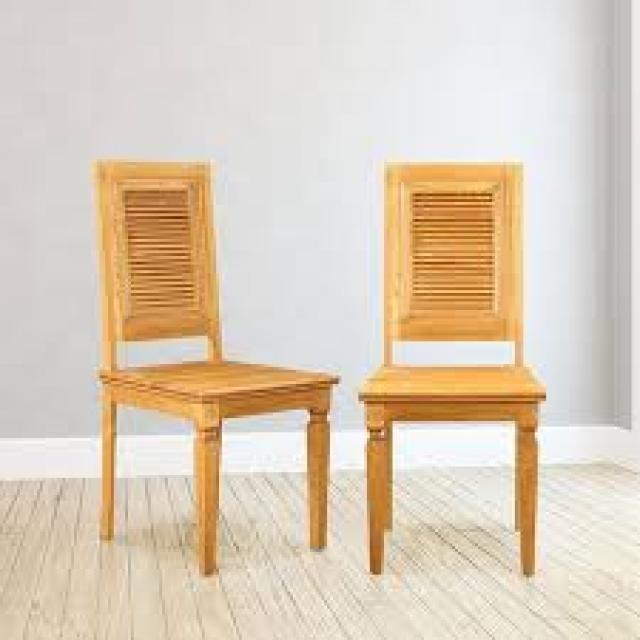chair: (92, 155, 340, 575), (358, 159, 548, 581)
